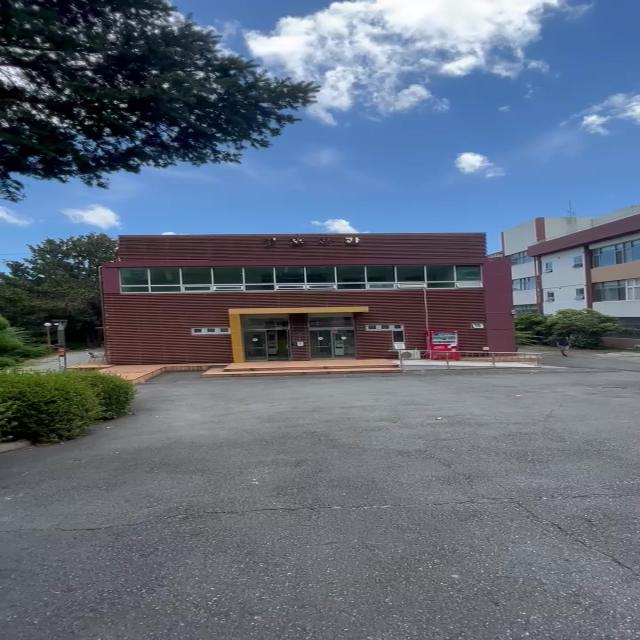building: (112, 231, 500, 374)
